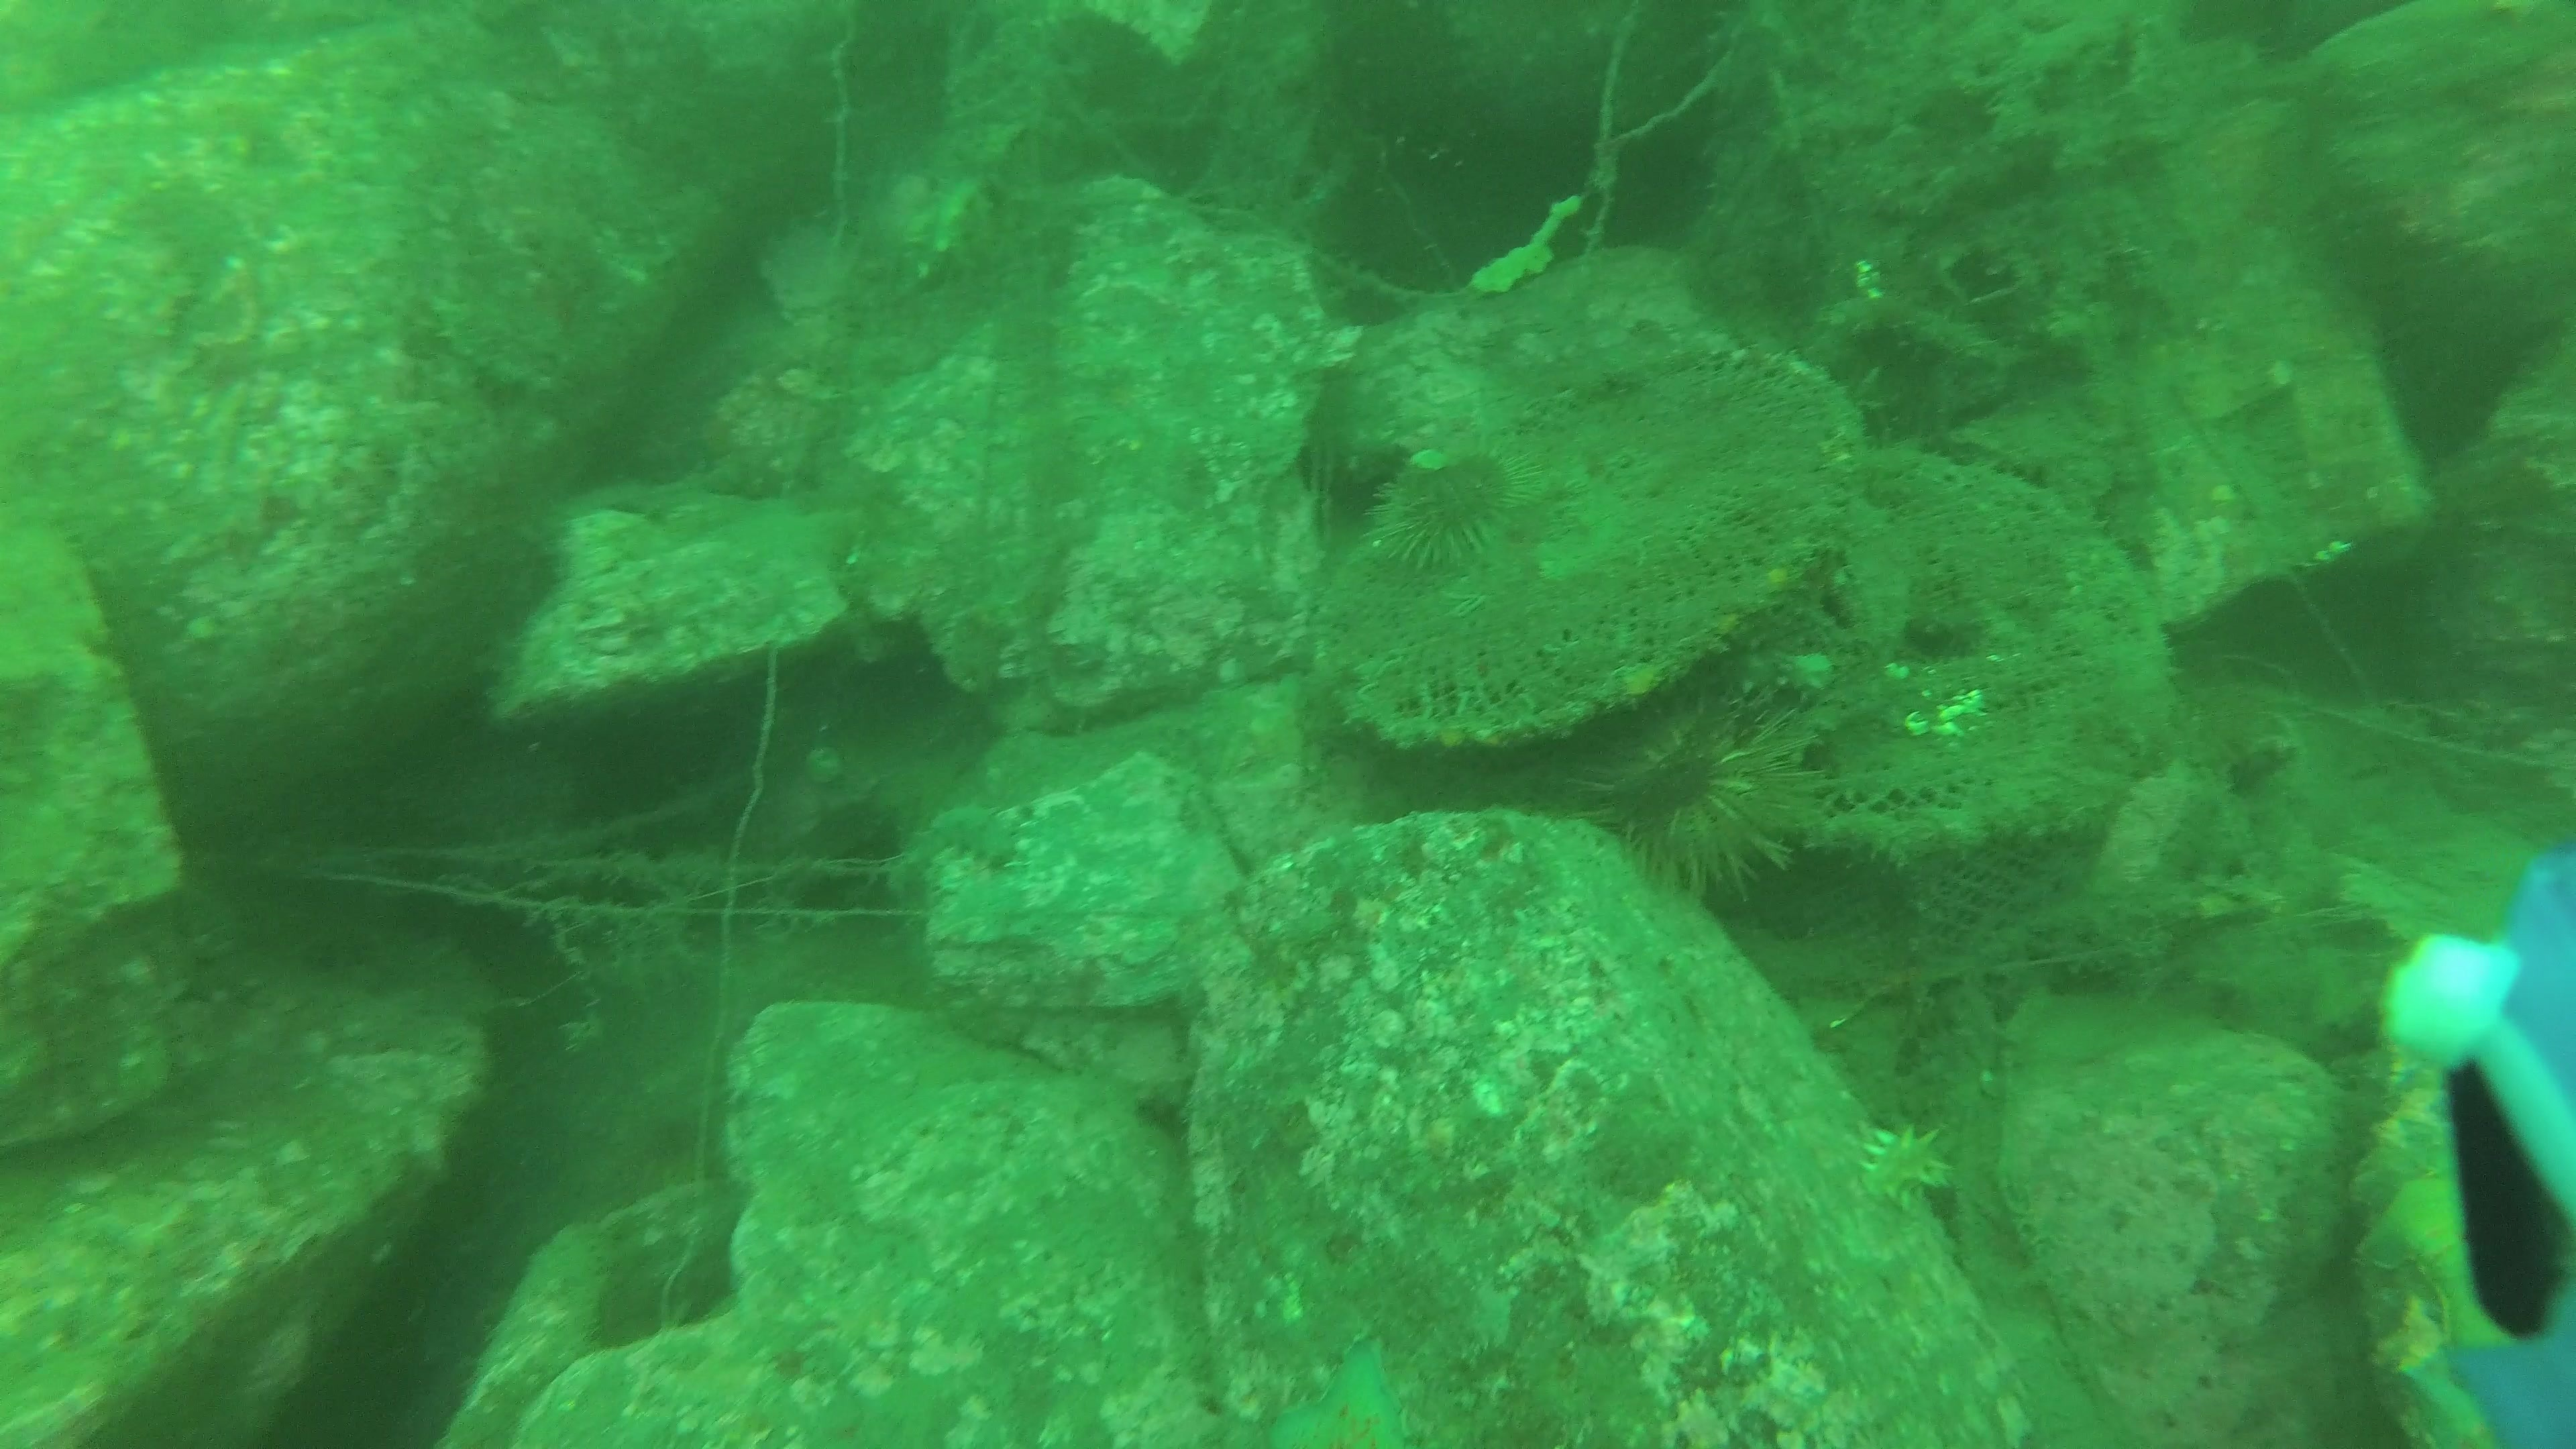echinus: (1568, 692, 1849, 909), (1371, 418, 1552, 580)
holothurian: (1847, 1113, 1962, 1215)
